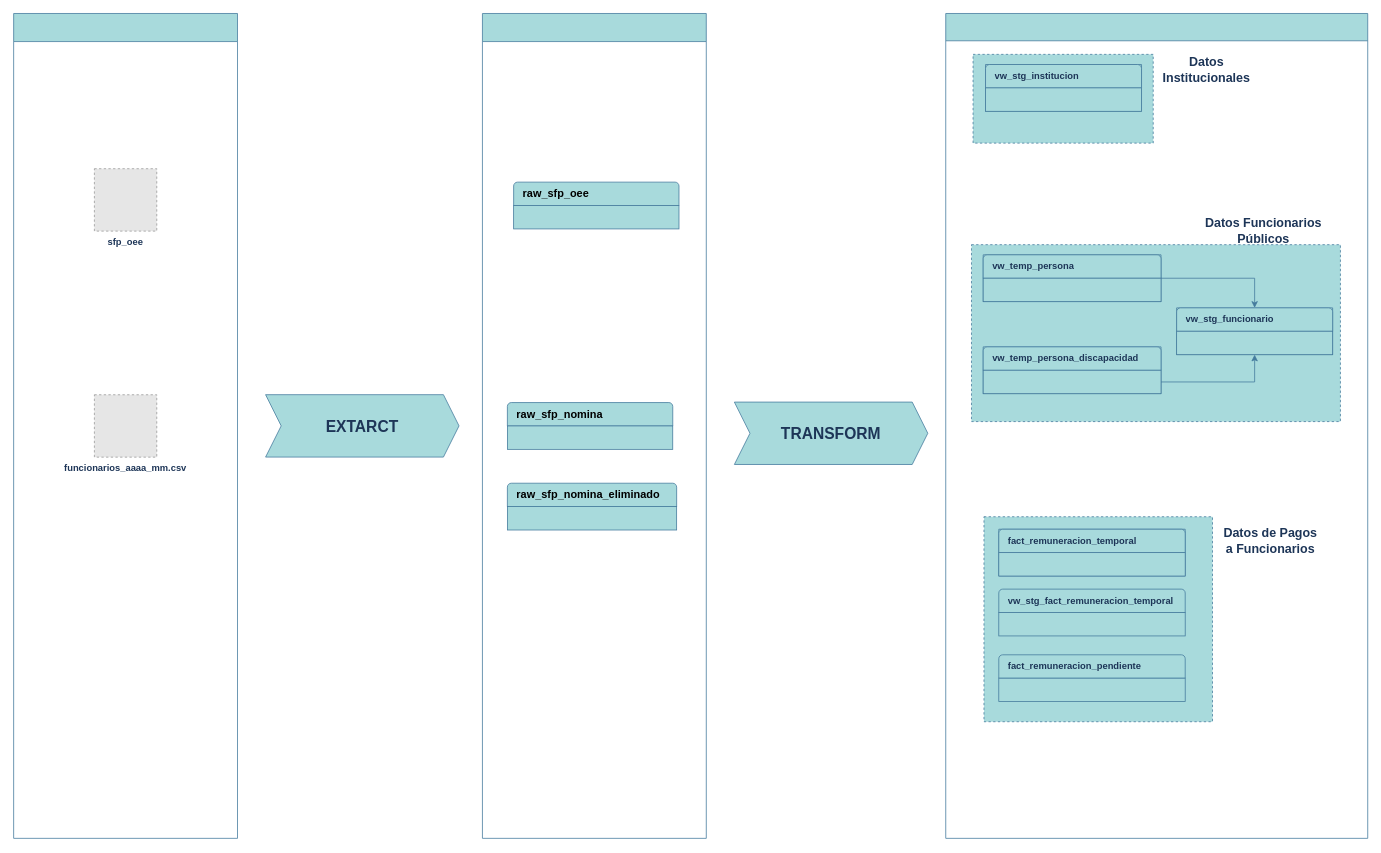
The diagram is 1381 pixels wide and 853 high, and some of its shapes have lost their labels. Grey dashed boxes stand in for pictures. Each missing label, with the box of its shape:
DATA RAW: (482, 13, 706, 838)
DATA SOURCE: (13, 13, 238, 838)
STAGE AREA: (945, 13, 1368, 838)
